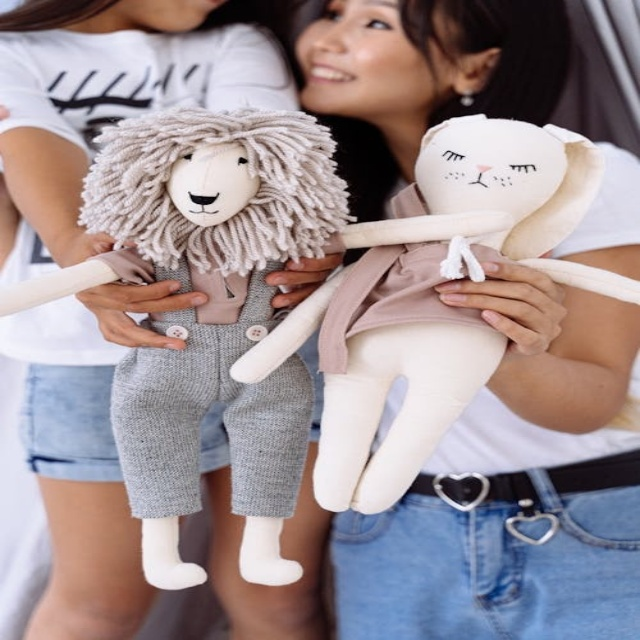Sin_gafas: (308, 0, 411, 47)
Sin_guantes: (69, 247, 205, 351), (433, 256, 572, 357), (261, 245, 351, 328)
Sin_mascara: (293, 54, 394, 113)
